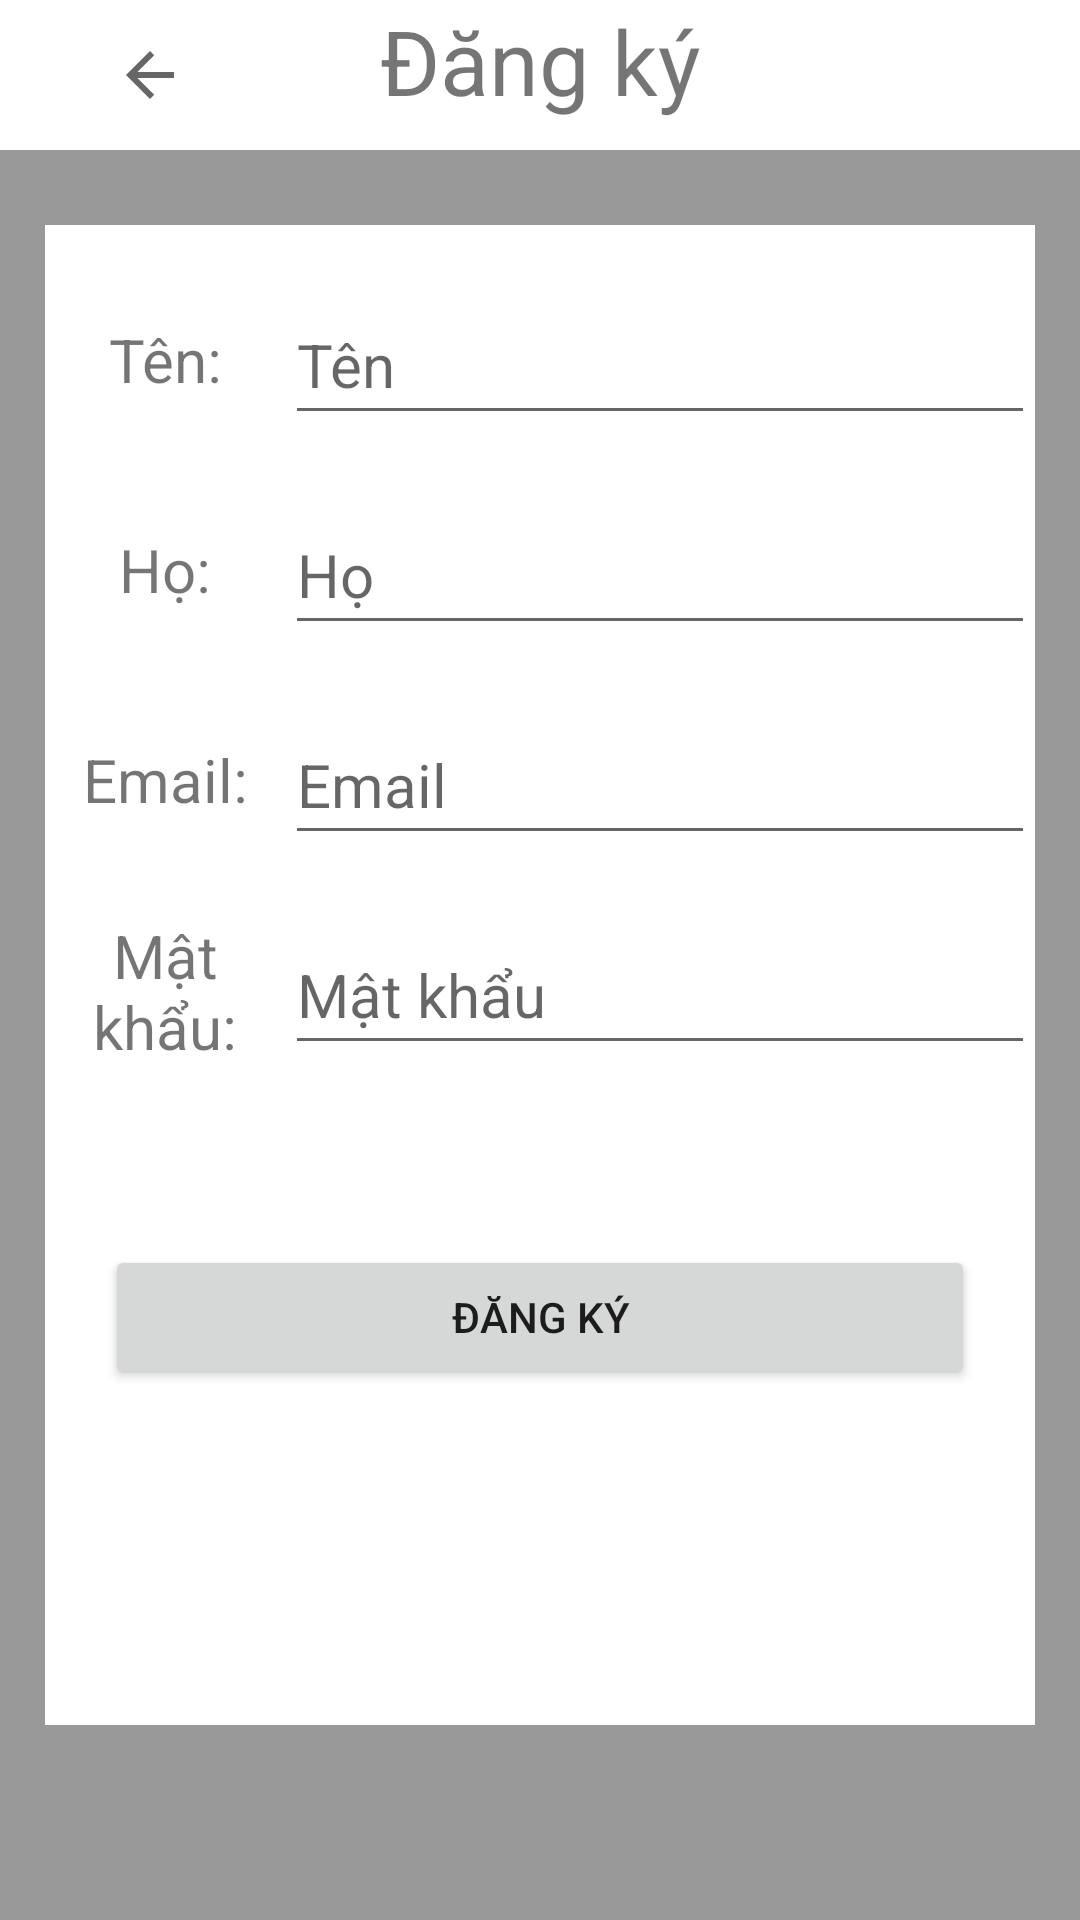

Where to tap for icons on this 1080w x 1920h app screen, as [x,y]:
Quay về màn hình Thêm: [150,75]
